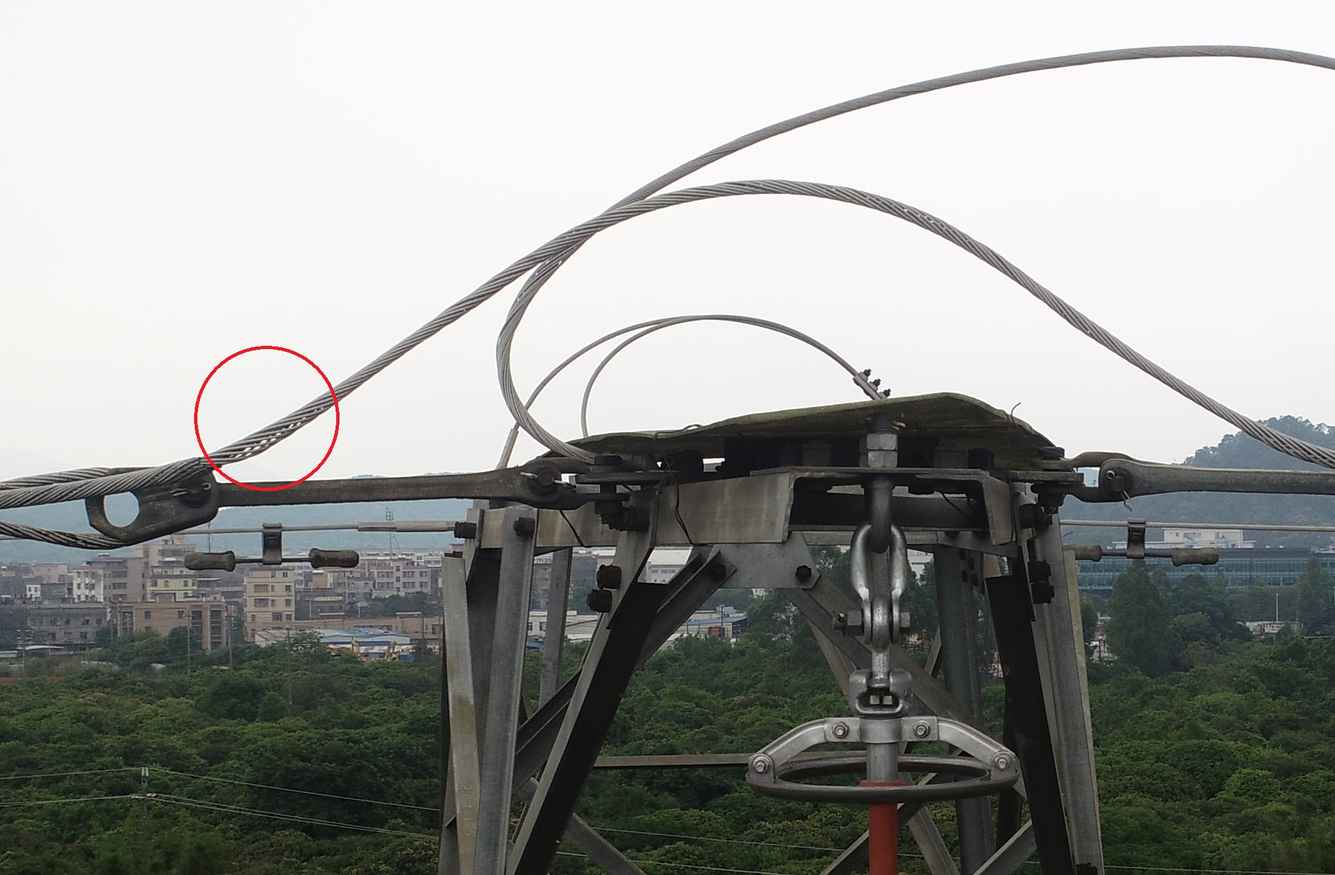damper: (178, 520, 361, 575), (1065, 517, 1221, 567)
